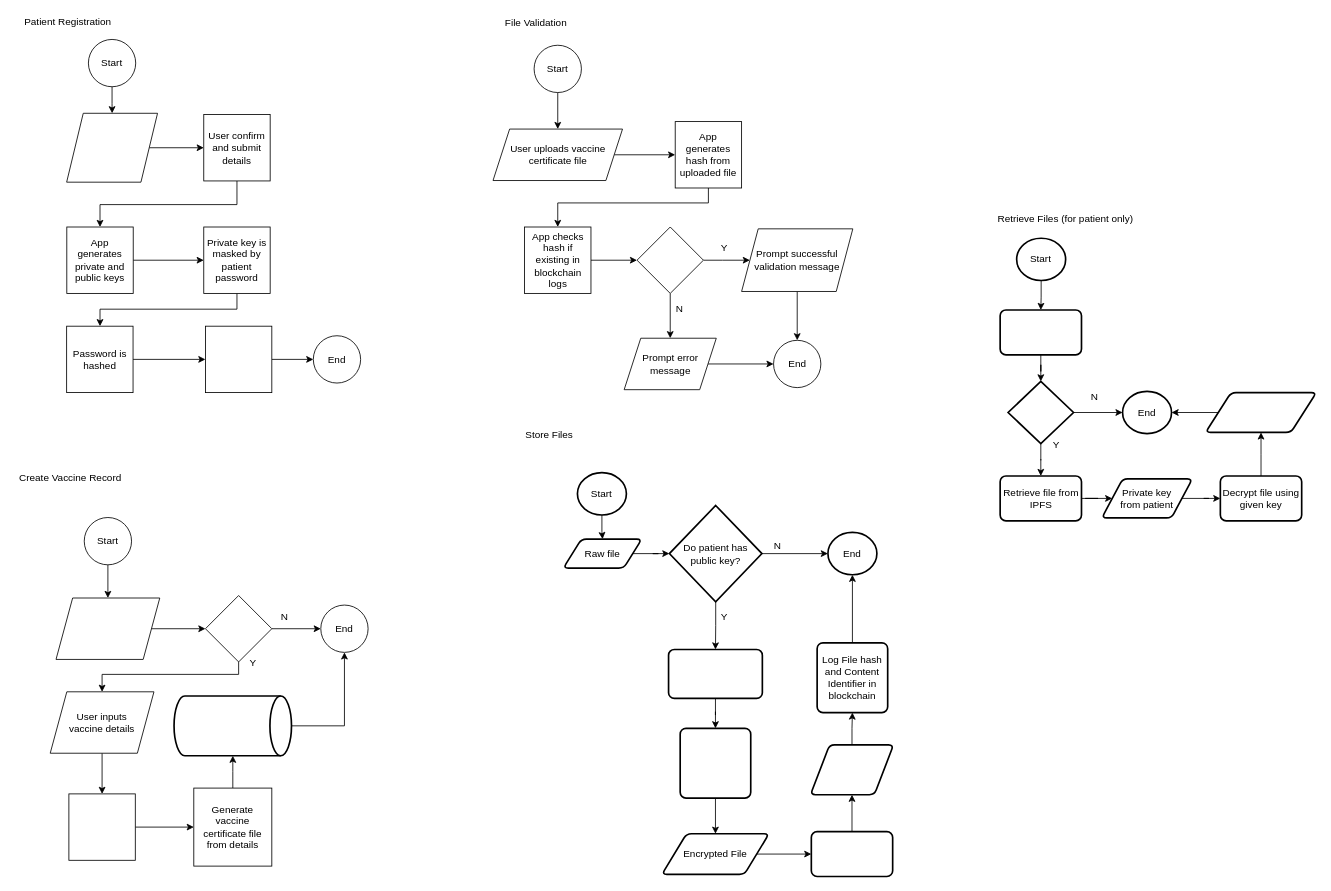
The diagram is 1331 pixels wide and 891 high, and some of its shapes have lost their labels. The shapes that lost their labels are listed below. From the top down, each one's centre as x and y in pixels, then its label:
pixel 112 147: User inputs Name, Address, Birthdate, Password
pixel 669 259: Is hash existing?
pixel 1040 332: Query metadata in blockchain
pixel 238 359: Patient is tagged as valid to add vaccine records
pixel 1040 412: Metadata Valid?
pixel 1260 412: Display decrypted files
pixel 107 628: User scans patient QR Code
pixel 238 628: Is patient valid?
pixel 715 673: Generate file hash from raw file
pixel 232 725: Store file and details to IPFS and blockchain
pixel 715 762: Encrypt files using public key
pixel 851 769: IPFS Content ID
pixel 101 826: User confirm and submits details
pixel 851 853: Store encrypted file in IPFS
